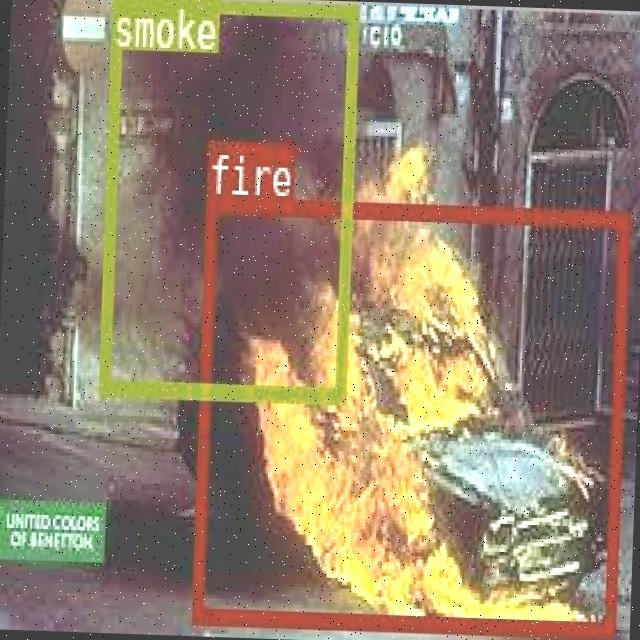fire: (191, 193, 628, 634)
smoke: (96, 0, 356, 397)
